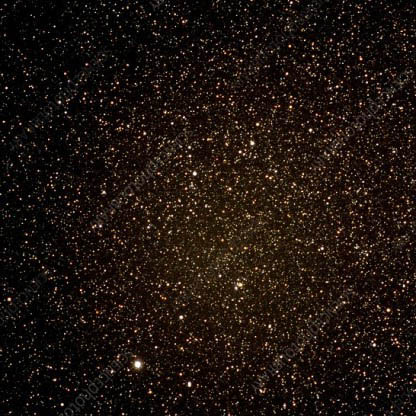Lyra: (124, 349, 154, 383), (170, 305, 201, 332), (228, 271, 252, 298), (236, 133, 261, 156), (184, 163, 205, 188), (176, 371, 199, 392)
